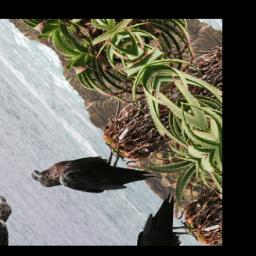Crow: (25, 119, 159, 230)
